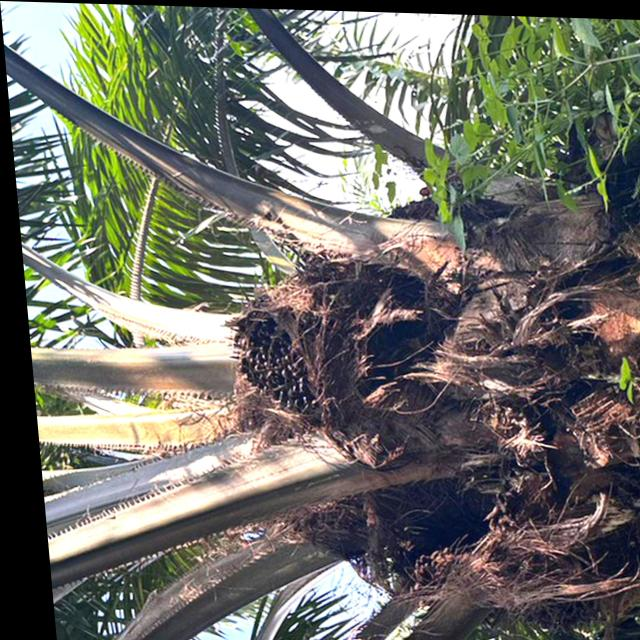ripe: (213, 296, 332, 422)
